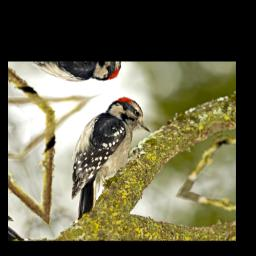Woodpecker: (30, 91, 175, 226)
